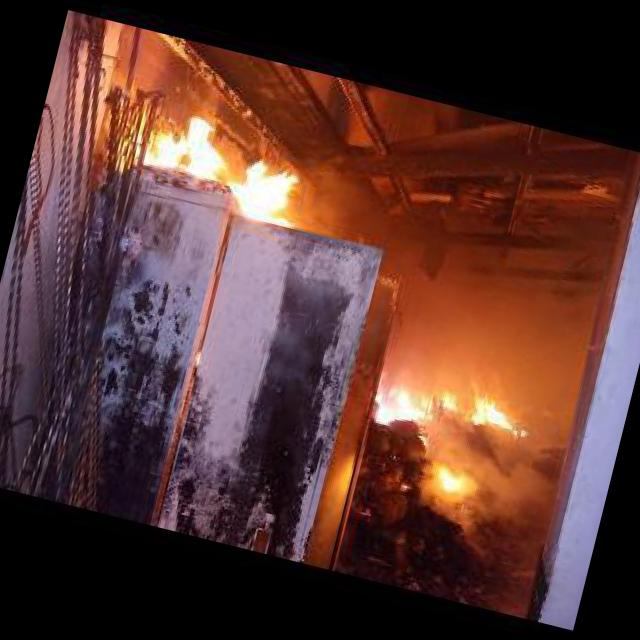fire: (126, 107, 317, 224), (369, 378, 436, 437), (466, 388, 538, 437), (435, 462, 478, 496), (434, 389, 462, 412)
smoke: (468, 432, 566, 535)
